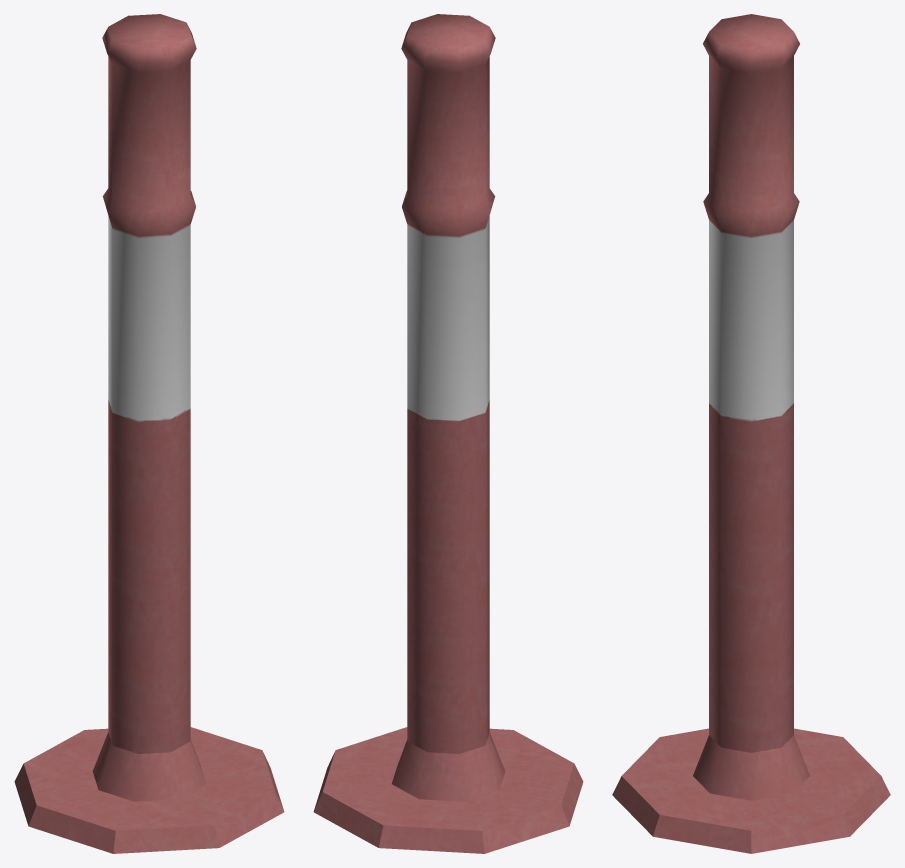
File: SM_TraficCylinder.fbx
The picture shows the model from 3 angles, left to right: view 1: azimuth 30°, elevation 25°; view 2: azimuth 150°, elevation 25°; view 3: azimuth 270°, elevation 25°; orthographic projection.
Visible parts, largest first — view 1: SM_TraficCylinder; view 2: SM_TraficCylinder; view 3: SM_TraficCylinder.
Part boxes in pixels (x1=…): SM_TraficCylinder: x1=14, y1=14, x2=284, y2=853; SM_TraficCylinder: x1=313, y1=14, x2=583, y2=853; SM_TraficCylinder: x1=612, y1=14, x2=890, y2=853.
Size of the model in its own units: 0.2335 by 0.7056 by 0.2335.
